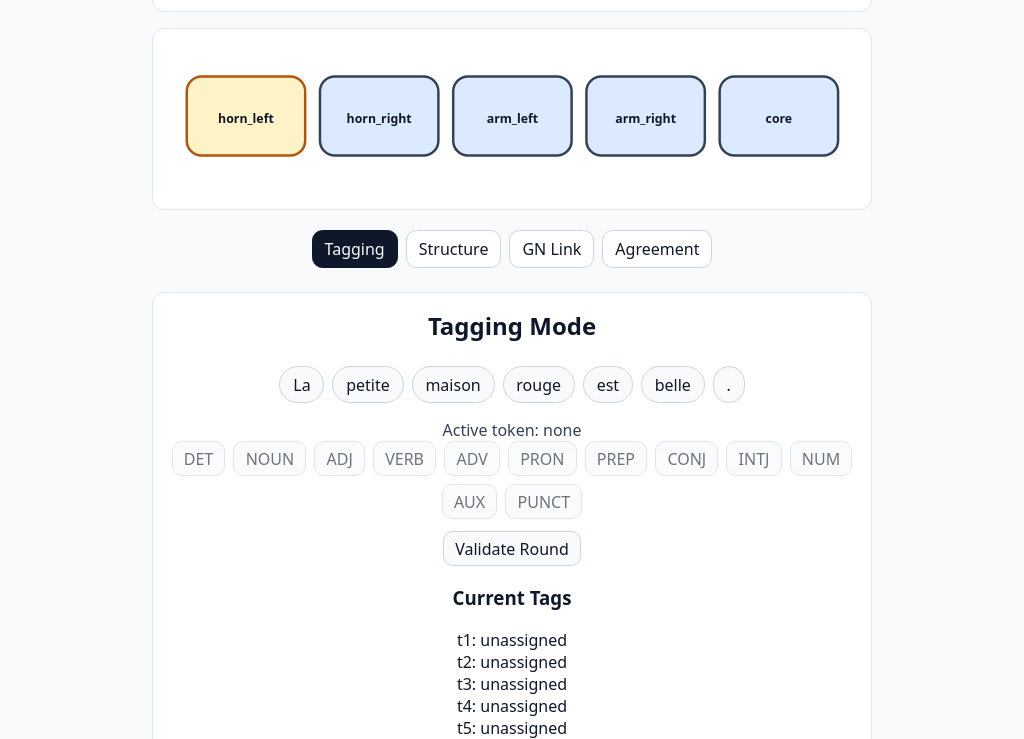
App › captures elapsed timing and applies target-pace speed bonus during submit
(page scrolled)
Click the button "maison": click(453, 384) [412,366,494,403]
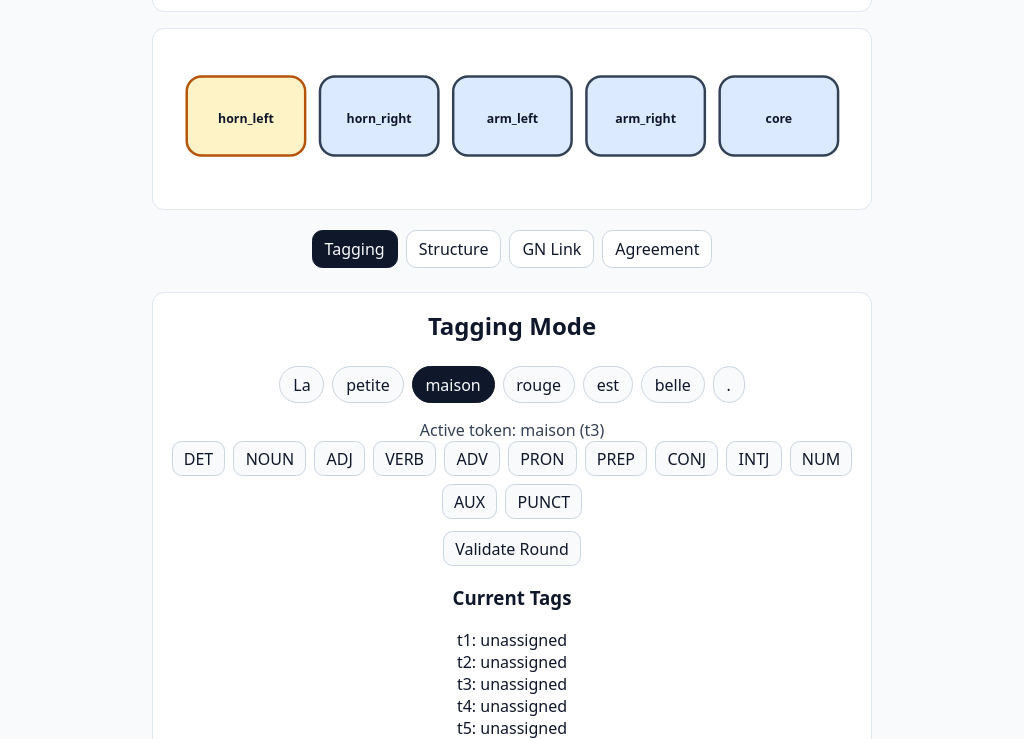
Click the button "NOUN": click(270, 458) [233,441,306,476]
Wait 12000 ms
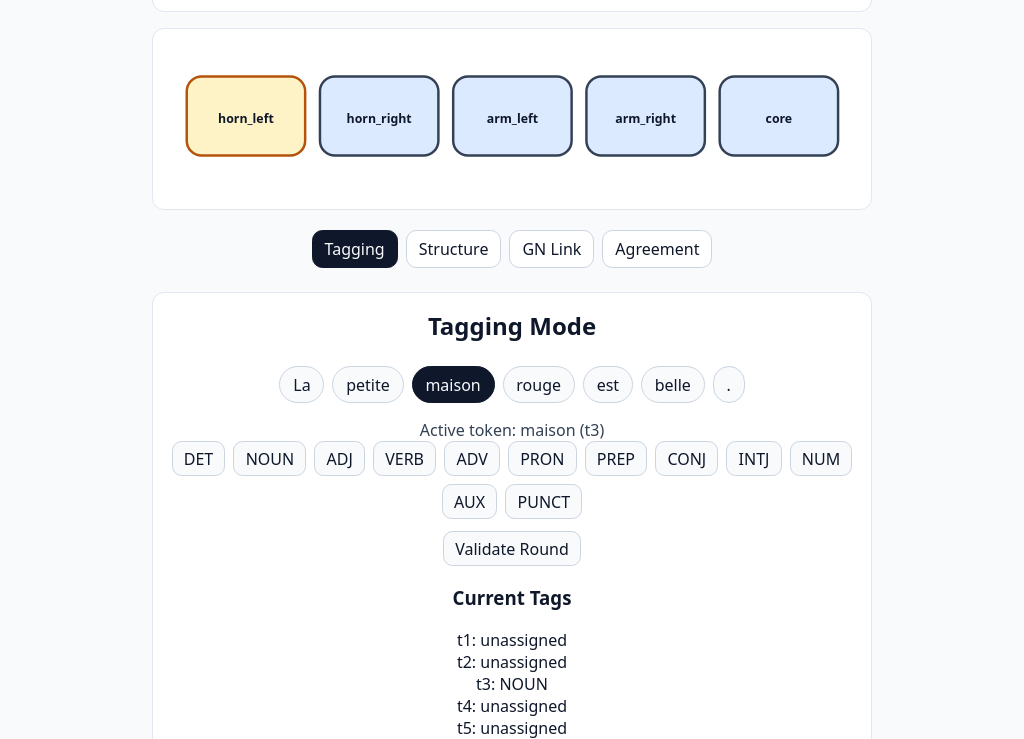
Click the button "Validate Round": click(512, 549) [443,531,581,566]
(page scrolled)
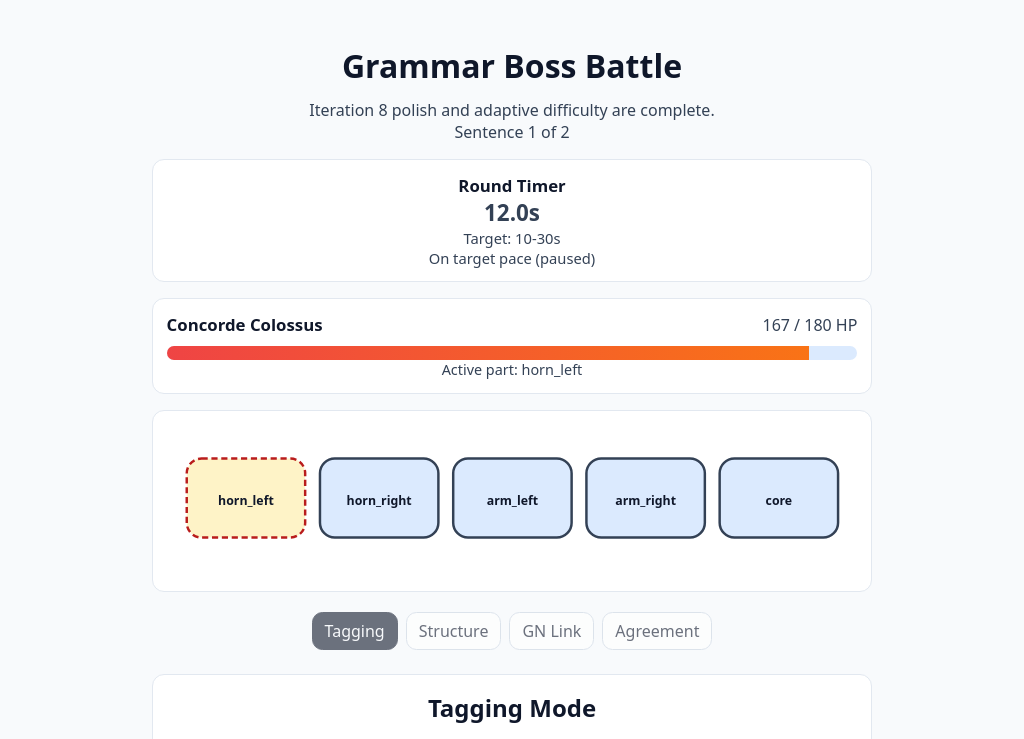
Expected: the text "12.0s" is shown, [484,197,540,228]
Expected: the text "167 / 180 HP" is shown, [762,314,857,336]
Expected: the text "On target pace (paused)" is shown, [429,248,595,268]
